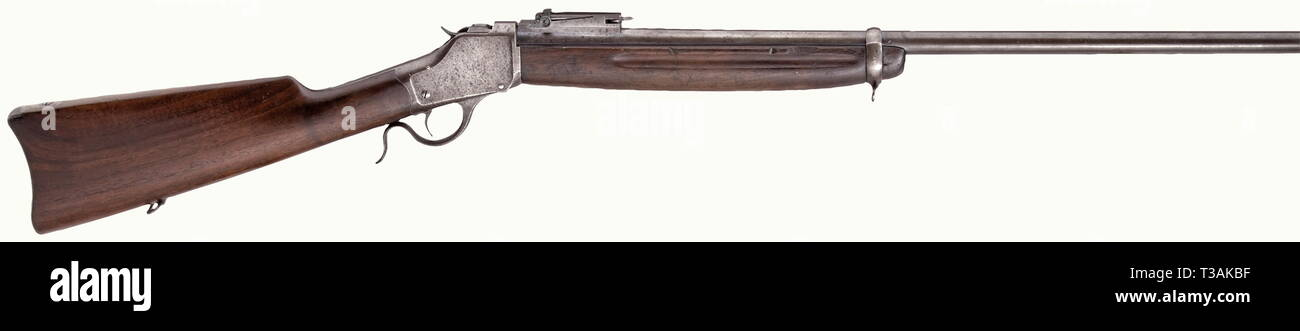GUN: (5, 3, 1300, 243)
